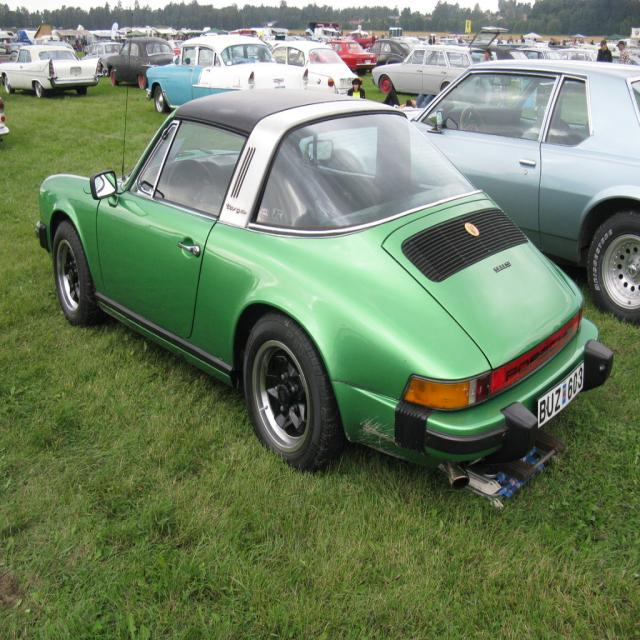car: (56, 85, 589, 486), (294, 53, 639, 320), (0, 19, 639, 116), (142, 30, 308, 110), (0, 43, 101, 102), (109, 23, 181, 74)
